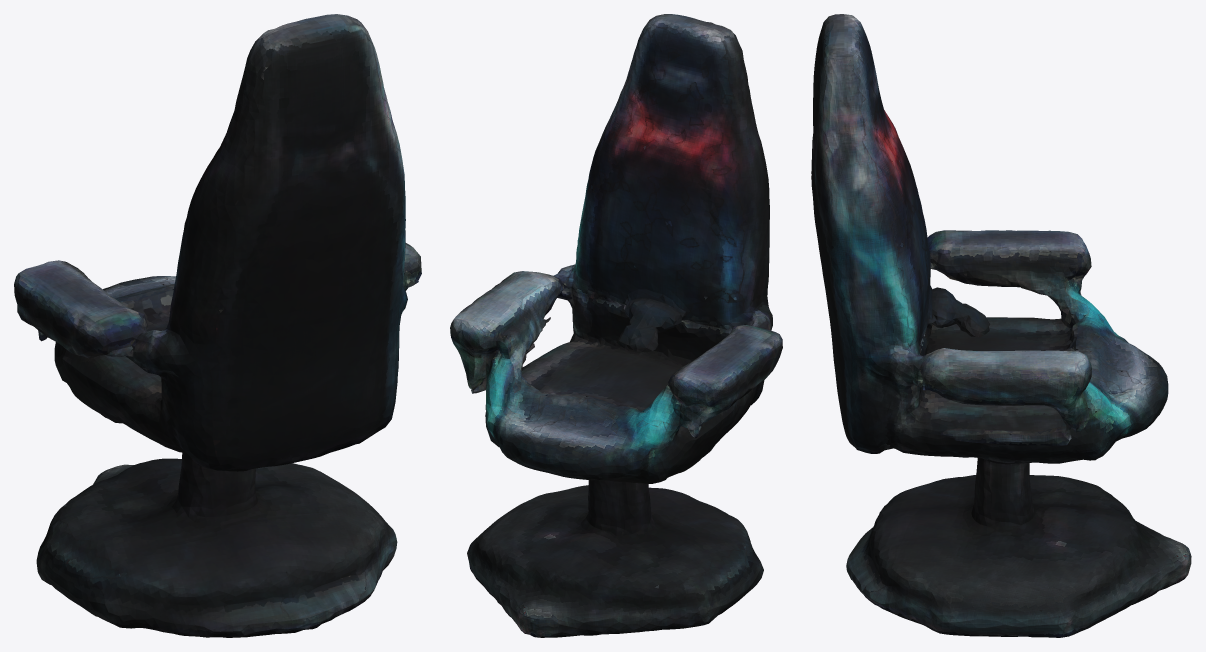
The model's file is a esports chair.glb.
The picture shows the model from 3 angles, left to right: view 1: azimuth 30°, elevation 25°; view 2: azimuth 150°, elevation 25°; view 3: azimuth 270°, elevation 25°; orthographic projection. The views are drawn at different scales.
Bounding box in the file's own units: 0.5767 × 0.999 × 0.6233.
1 material, 1 textured.
